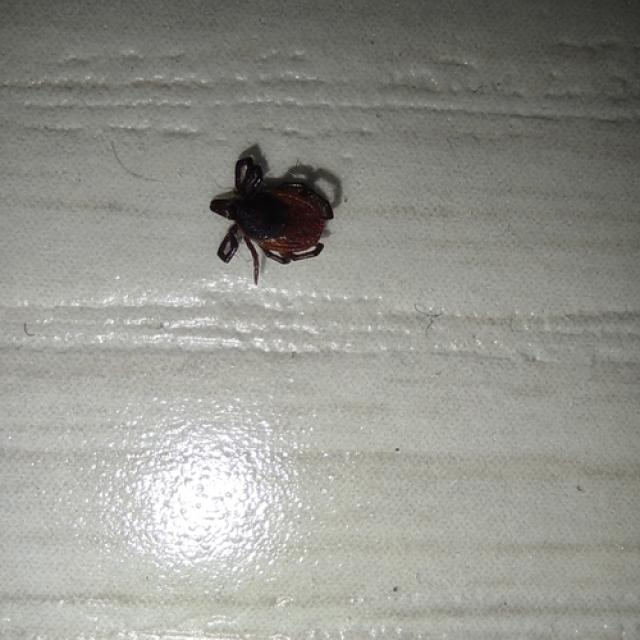Ixodes Ricinus-F: (209, 145, 334, 287)
